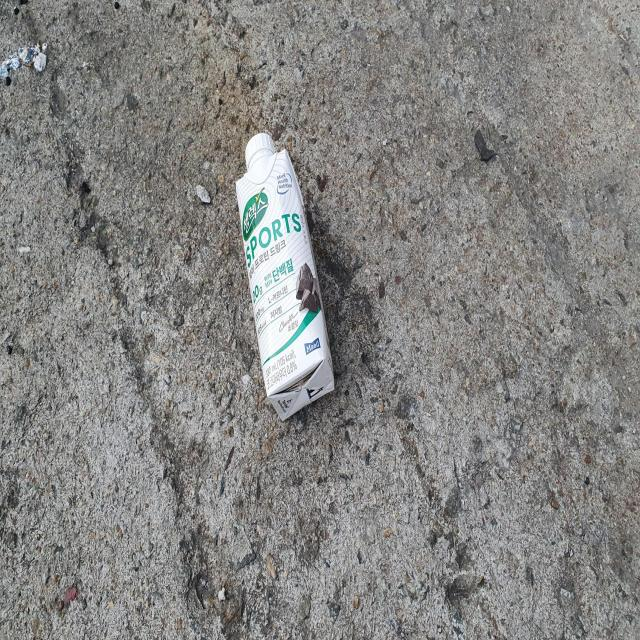paperpack: (236, 133, 334, 420)
